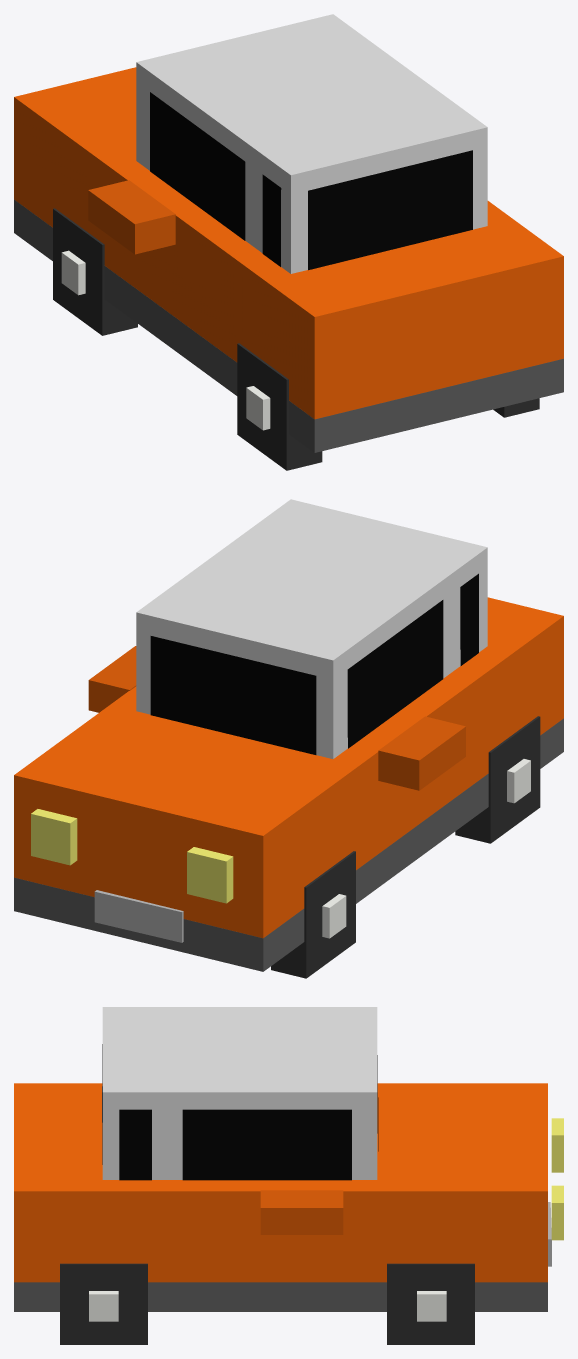
File: car1.gltf
3 renders of one model, top to bottom at view 1: azimuth 30°, elevation 25°; view 2: azimuth 150°, elevation 25°; view 3: azimuth 270°, elevation 25°, orthographic. The views are drawn at different scales.
Visible parts, largest first — view 1: techo; view 2: techo; view 3: techo.
Boxes of the visible parts, box(x1,y1,x2,y2) form: techo: box(14, 14, 563, 470); techo: box(14, 499, 563, 978); techo: box(14, 1007, 563, 1344).
Size of the model in its own units: 12.61 by 9.87 by 20.46.
